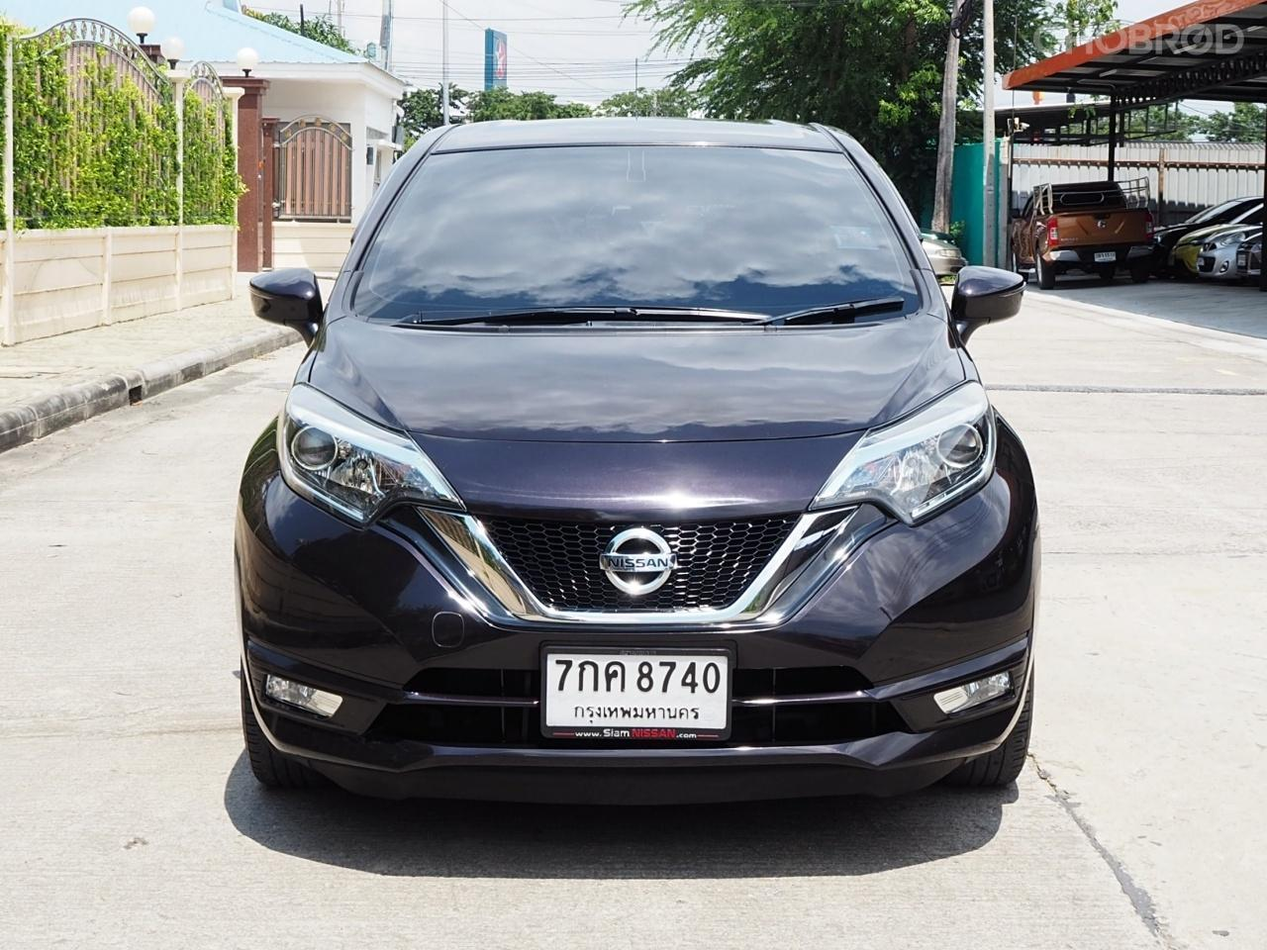license-plate: (539, 643, 733, 746)
